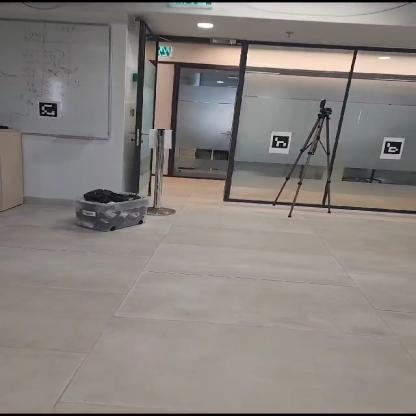open: (141, 64, 237, 211)
